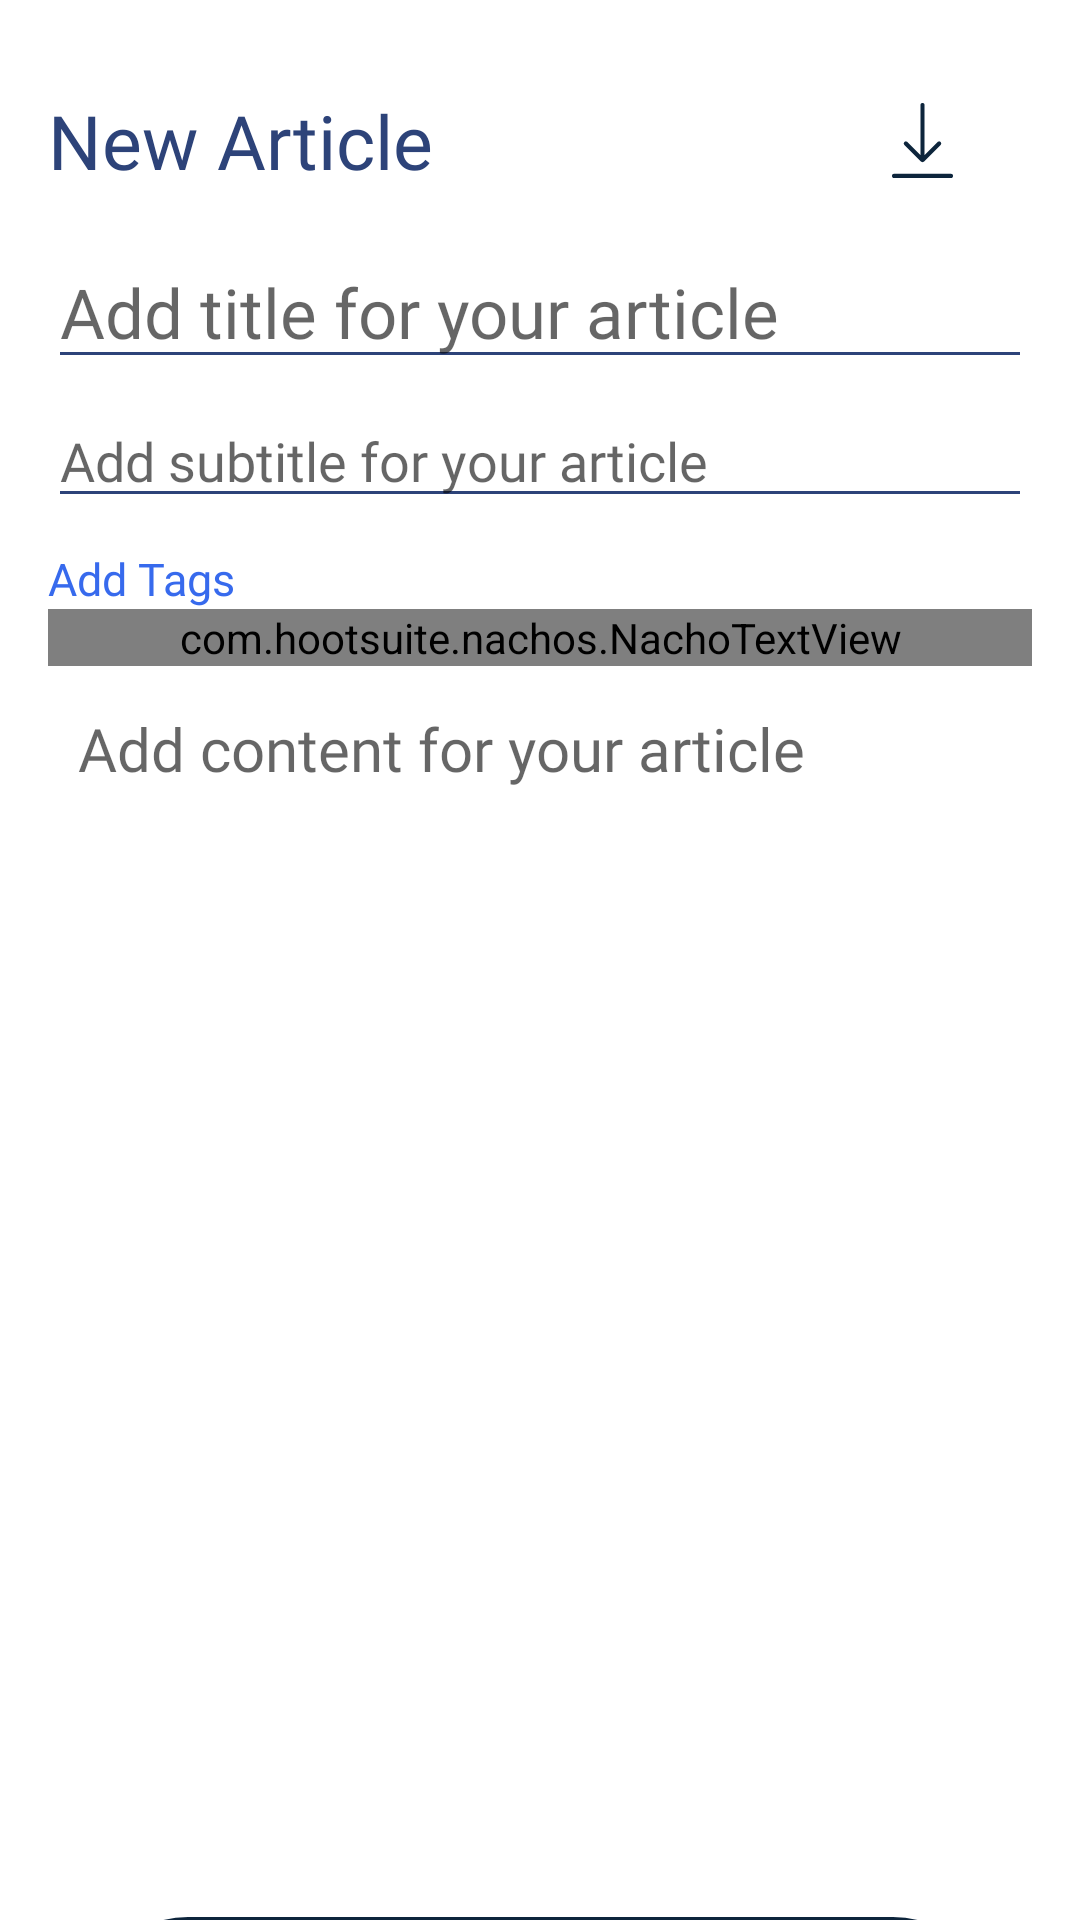

Where icons sit on this 1080px x 1920px app screen, as [x1,y1,x2,y2]:
download: [892,103,953,178]
